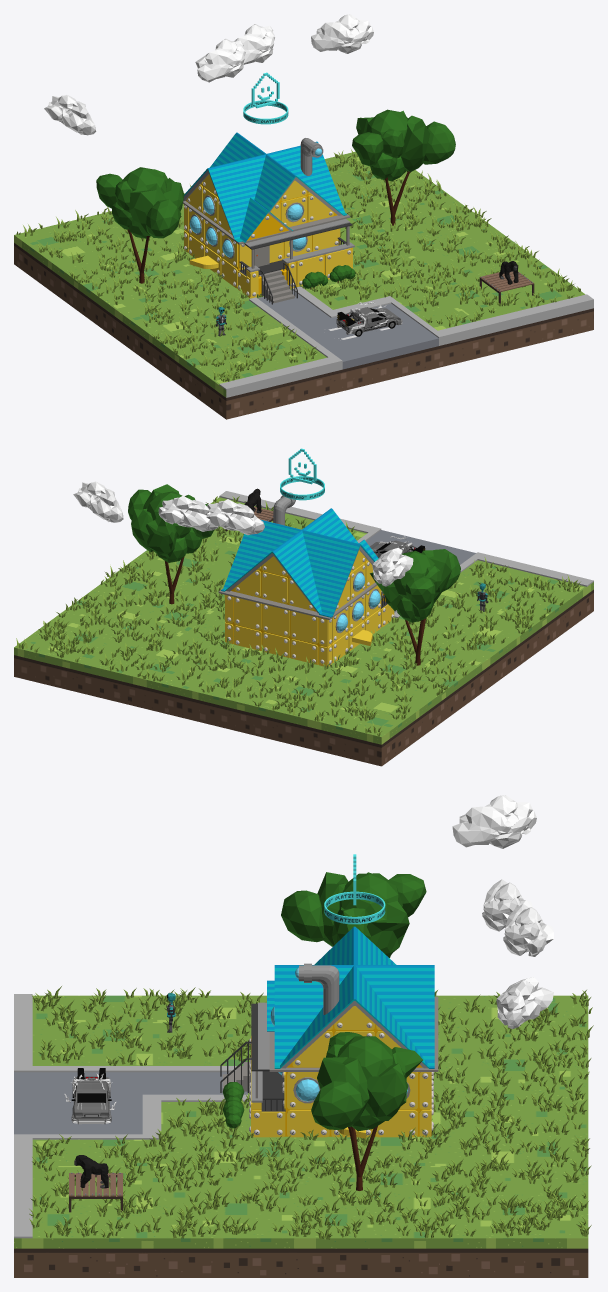
3 views of the same model, one above another, from view 1: azimuth 30°, elevation 25°; view 2: azimuth 150°, elevation 25°; view 3: azimuth 270°, elevation 25° (orthographic). The views are drawn at different scales.
Visible parts, largest first — view 1: Cube.006, Cube.1366, Circle.012_Grass_0.192, Cube.007, tree, tree.001, VEHICLES_DELOREAN, TYPE_PREMIUM, Cube.009; view 2: Cube.006, Cube.1366, Circle.012_Grass_0.192, Cube.007, tree.001, tree, TYPE_PREMIUM, VEHICLES_DELOREAN; view 3: Cube.006, Circle.012_Grass_0.192, Cube.1366, tree, Cube.007, tree.001, VEHICLES_DELOREAN, Cube.009, TYPE_PREMIUM, ANIMAL_GORILA.
Part boxes in pixels (box(x1,y1,x2,y2)): Cube.006: box(14, 151, 593, 419); Cube.1366: box(183, 132, 354, 304); Circle.012_Grass_0.192: box(16, 149, 580, 381); Cube.007: box(44, 14, 373, 135); tree: box(352, 109, 455, 225); tree.001: box(96, 167, 184, 283); VEHICLES_DELOREAN: box(324, 302, 402, 339); TYPE_PREMIUM: box(243, 72, 288, 124); Cube.009: box(479, 271, 534, 303); Cube.006: box(14, 491, 593, 766); Cube.1366: box(218, 492, 394, 666); Circle.012_Grass_0.192: box(16, 496, 580, 736); Cube.007: box(73, 481, 413, 586); tree.001: box(370, 549, 460, 665); tree: box(128, 484, 214, 604); TYPE_PREMIUM: box(280, 448, 324, 500); VEHICLES_DELOREAN: box(370, 536, 425, 557); Cube.006: box(14, 994, 588, 1277); Circle.012_Grass_0.192: box(29, 986, 593, 1239); Cube.1366: box(220, 926, 438, 1138); tree: box(311, 1032, 422, 1190); Cube.007: box(452, 795, 553, 1029); tree.001: box(281, 872, 426, 957); VEHICLES_DELOREAN: box(64, 1068, 116, 1124); Cube.009: box(69, 1172, 122, 1212); TYPE_PREMIUM: box(324, 854, 385, 924); ANIMAL_GORILA: box(74, 1155, 108, 1188).
Bounding box in the file's own units: 4071 × 2251 × 4040.
39 materials, 5 textured.
